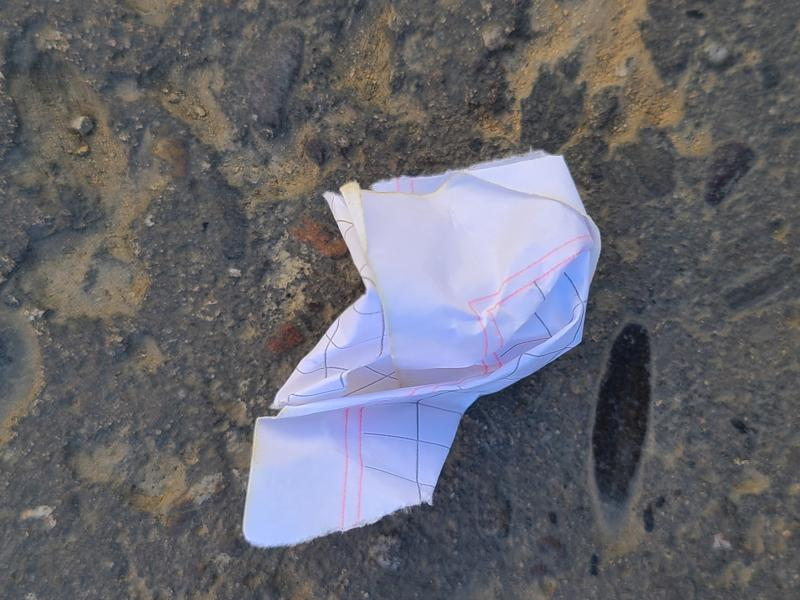papel: (241, 151, 603, 550)
